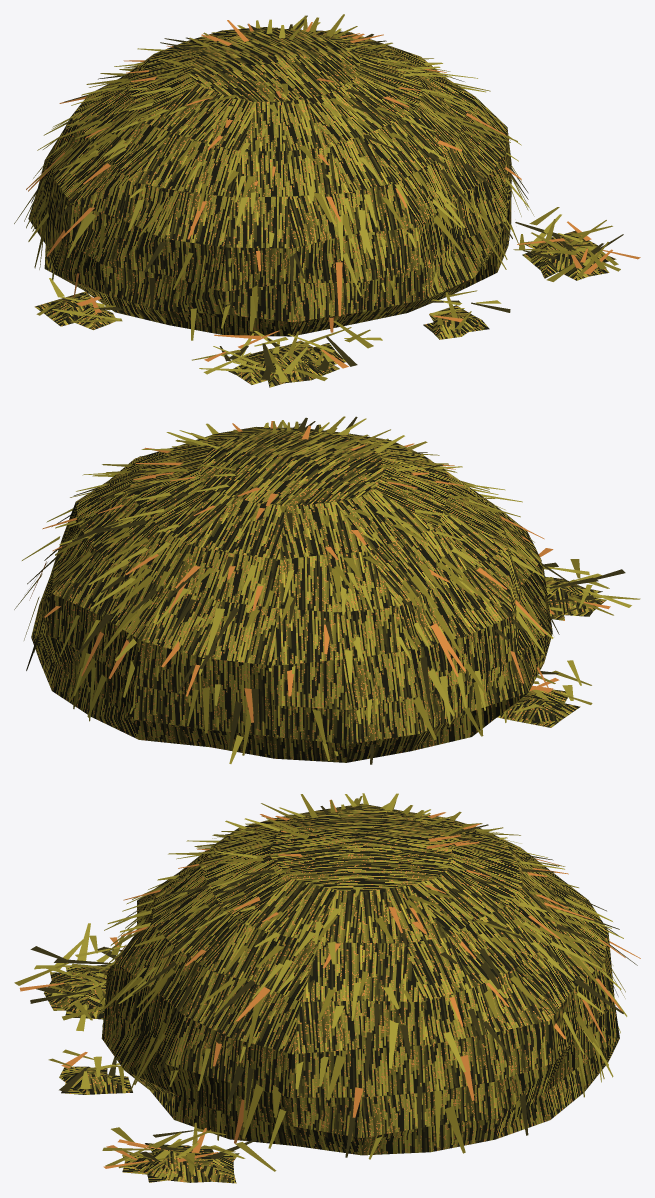
File: Aracrop03.glb
3 renders of one model, top to bottom at view 1: azimuth 30°, elevation 25°; view 2: azimuth 150°, elevation 25°; view 3: azimuth 270°, elevation 25°, orthographic. The views are drawn at different scales.
Visible parts, largest first — view 1: Aracrop03_hay; view 2: Aracrop03_hay; view 3: Aracrop03_hay.
Boxes of the visible parts, x1,y1,x2,y2 form: Aracrop03_hay: (14, 14, 640, 387); Aracrop03_hay: (14, 416, 640, 764); Aracrop03_hay: (14, 793, 640, 1183).
Bounding box in the file's own units: 6.04 × 2.15 × 5.74.
5 materials, 1 textured.
